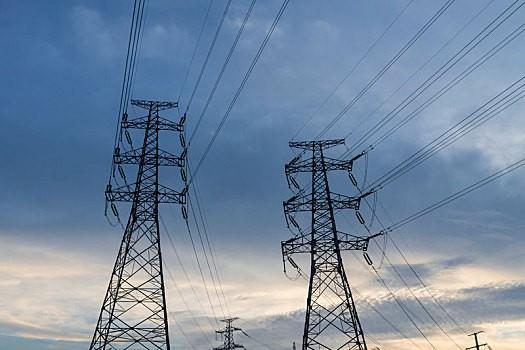power_tower: (85, 82, 193, 350), (283, 132, 376, 350)
